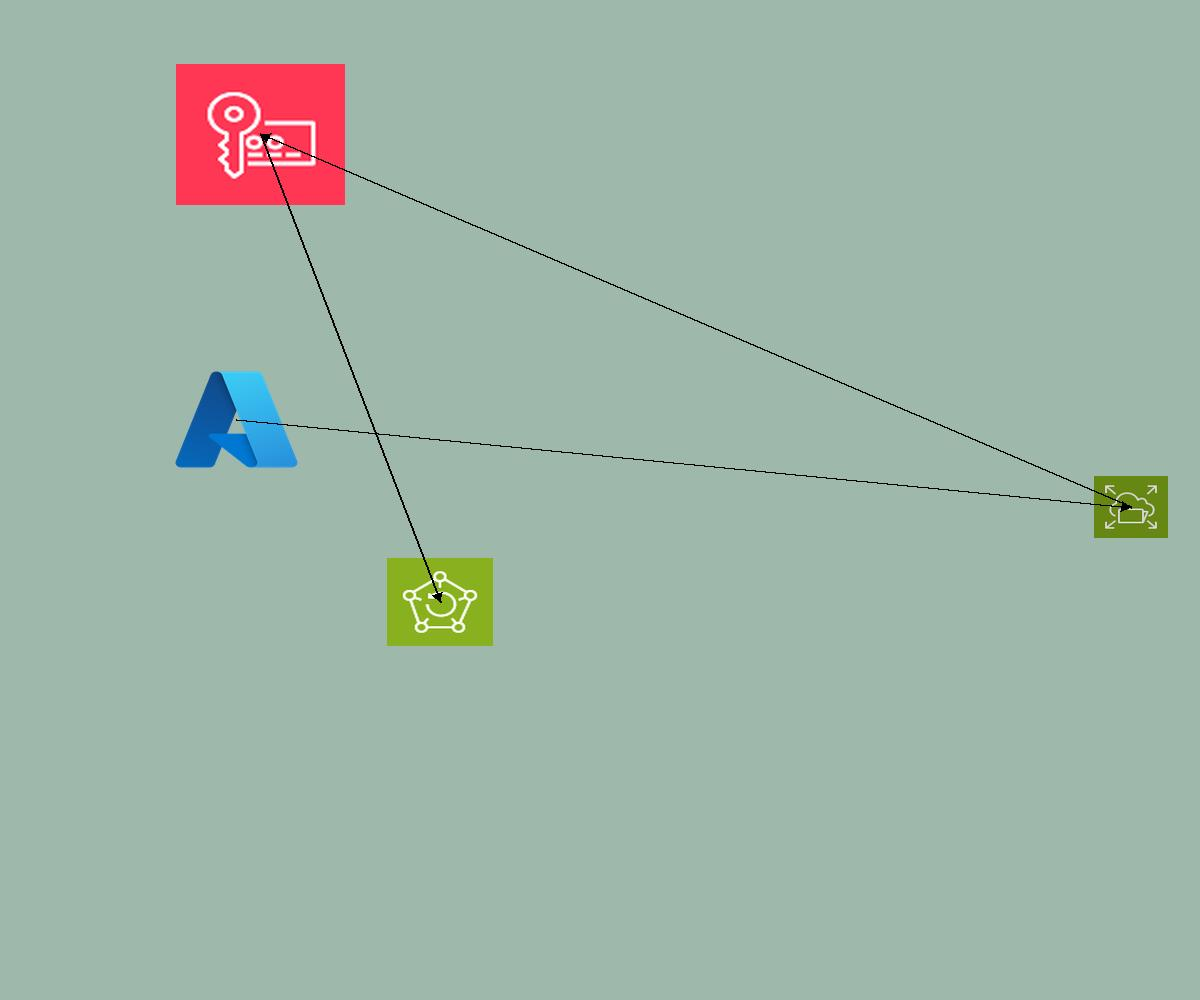AWS-Backup: (387, 558, 493, 646)
AWS-EFS: (1094, 476, 1168, 538)
AWS-Key-Management-Service: (176, 64, 345, 205)
Azure_services: (170, 364, 303, 475)
